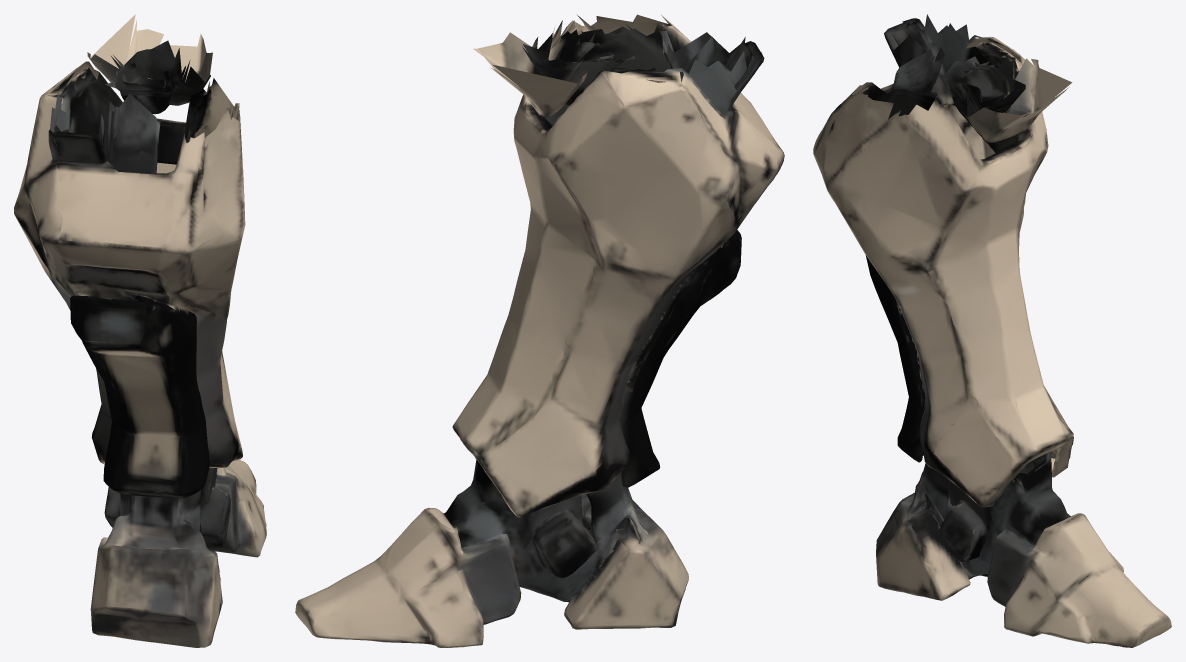
Rendered from wanzer_local_leg_right_001_lower.glb.
3 renders of one model, left to right at view 1: azimuth 30°, elevation 25°; view 2: azimuth 150°, elevation 25°; view 3: azimuth 270°, elevation 25°, orthographic. The views are drawn at different scales.
Parts seen in each view (by area): view 1: P_leg_right_lower; view 2: P_leg_right_lower; view 3: P_leg_right_lower.
Part boxes in pixels (left/top/right/bottom): P_leg_right_lower: left=14, top=14, right=266, bottom=647; P_leg_right_lower: left=295, top=14, right=784, bottom=647; P_leg_right_lower: left=813, top=14, right=1171, bottom=647.
Bounding box in the file's own units: 0.7943 × 1.26 × 0.7881.
2 materials, 2 textured.
